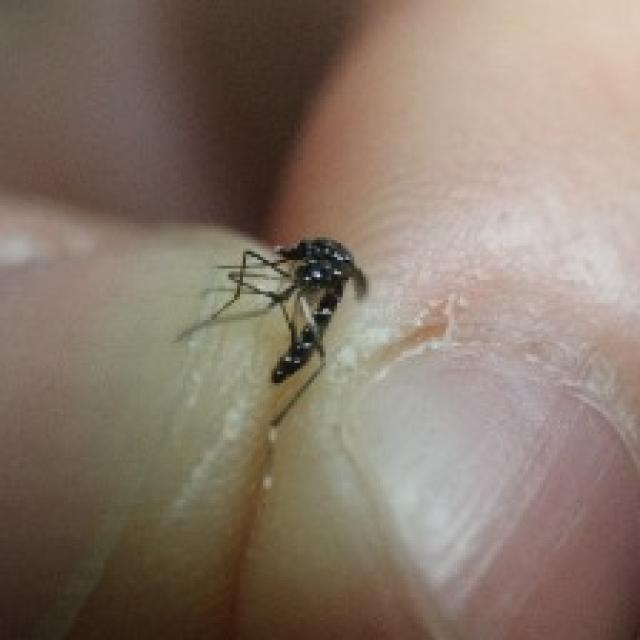aedes: (168, 188, 434, 435)
